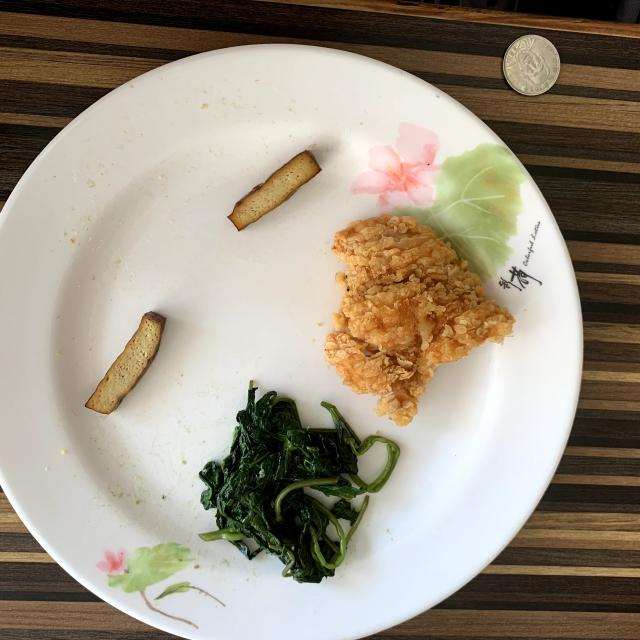coin: (502, 35, 560, 95)
firm tofu: (85, 311, 166, 414), (228, 151, 321, 231)
fried chicken cutlet: (325, 215, 514, 425)
sweet potato leaves: (199, 385, 399, 582)
